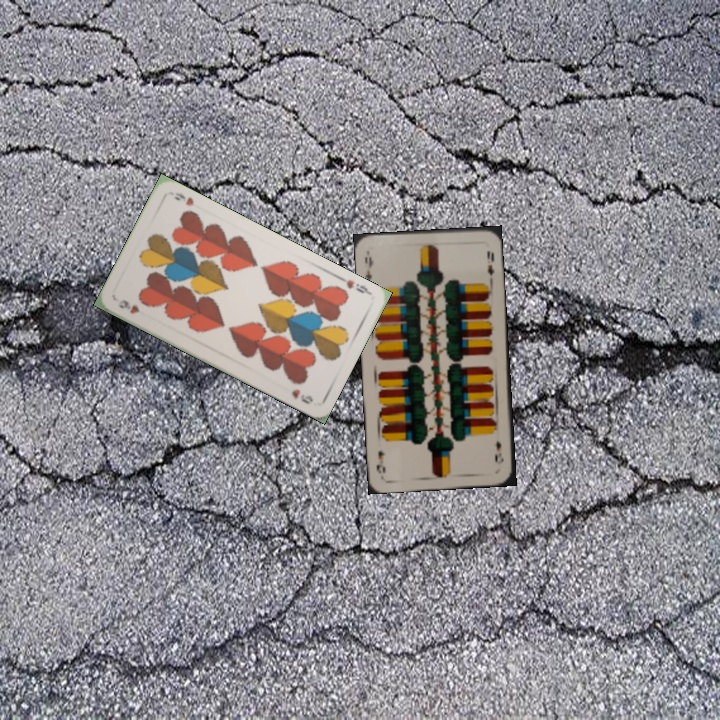E9: (360, 248, 376, 284), (490, 437, 506, 465)
H9: (336, 273, 374, 297), (115, 295, 142, 316)
